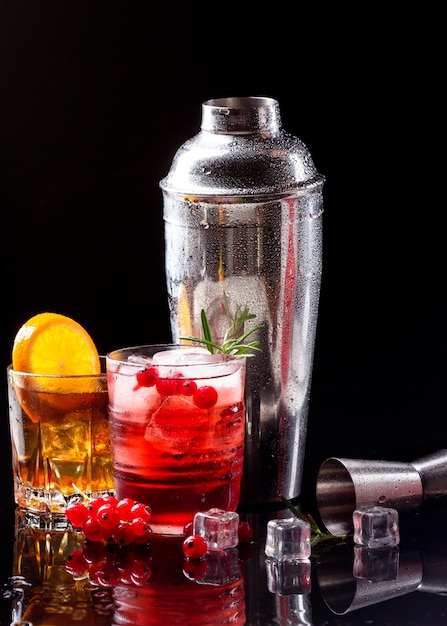alcohol: (100, 341, 248, 545), (3, 316, 143, 525)
